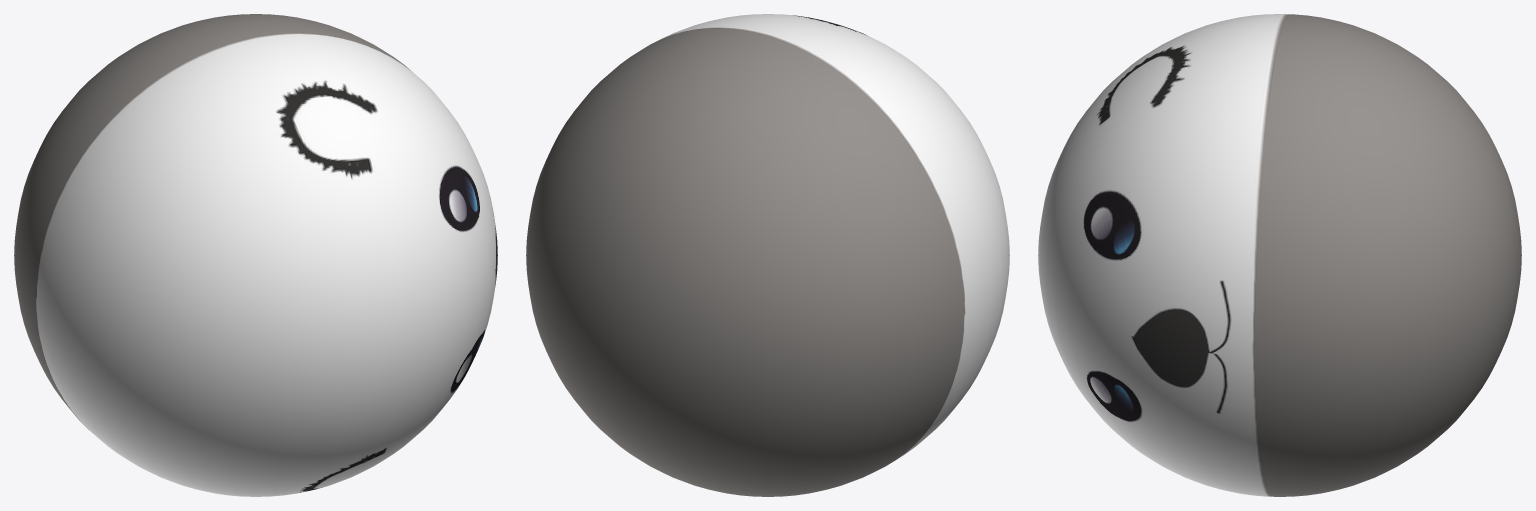
File: kula.fbx
3 renders of one model, left to right at view 1: azimuth 30°, elevation 25°; view 2: azimuth 150°, elevation 25°; view 3: azimuth 270°, elevation 25°, orthographic.
Visible parts, largest first — view 1: Sphere; view 2: Sphere; view 3: Sphere.
Boxes of the visible parts, box(x1,y1,x2,y2) form: Sphere: box(14, 14, 497, 496); Sphere: box(526, 14, 1009, 496); Sphere: box(1038, 14, 1521, 496).
Size of the model in its own units: 15 by 15 by 15.
1 material, 1 textured.
